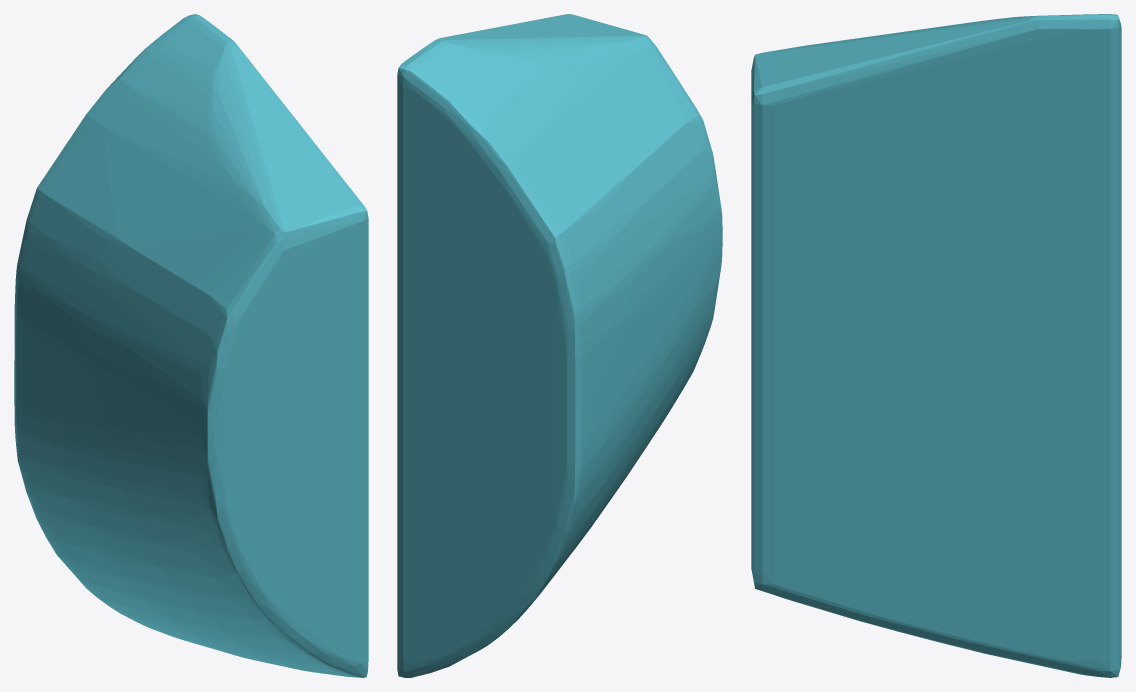
The model's file is right_th_distal_pst_part_2.obj.
3 views of the same model, side by side, from view 1: azimuth 30°, elevation 25°; view 2: azimuth 150°, elevation 25°; view 3: azimuth 270°, elevation 25° (orthographic). The views are drawn at different scales.
Size of the model in its own units: 5.05 by 16.13 by 8.21.
